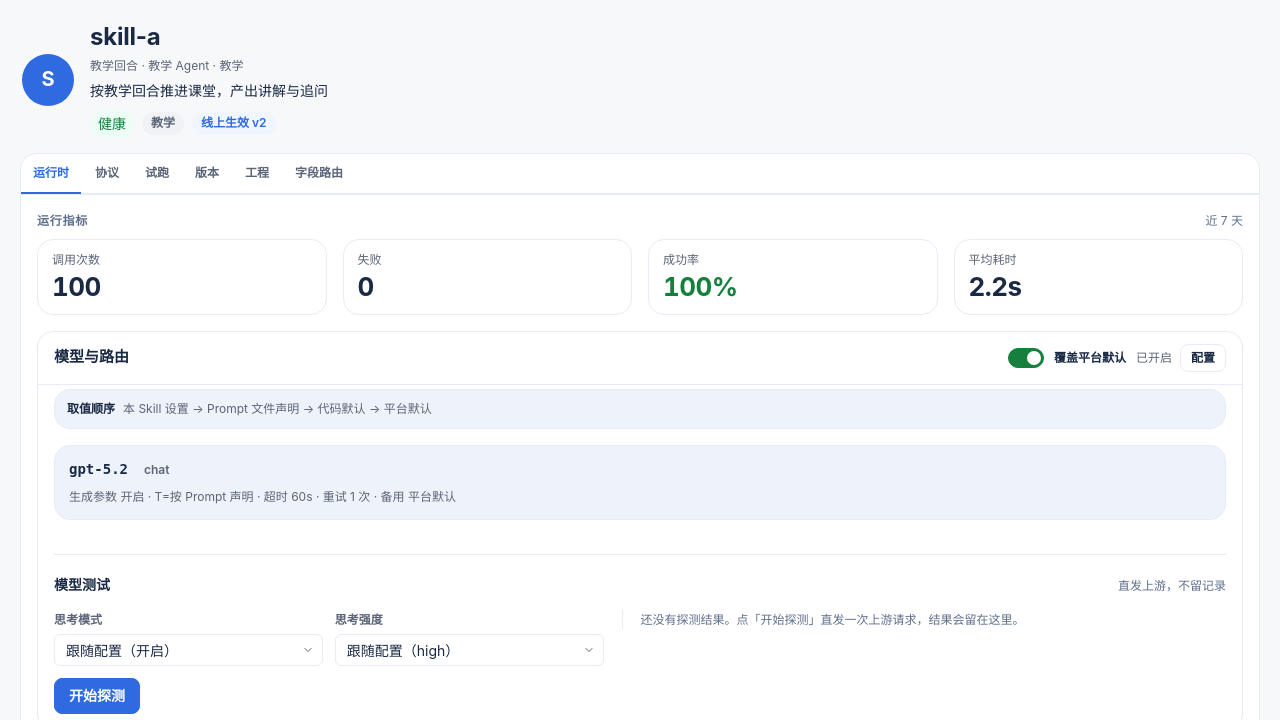
Scenario: SkillDetail 详情页（renderSkillDetail 落点） › 版本页签：版本表格（版本/名称/状态）+ 下方版本管理区块；日期/作者无源不渲染
What coordinates should you click on to do the following:
click the tab with class "mk-subtab" showing "版本"
I would click on:
 (207, 174)
Its box is [183,154,231,194].
(page scrolled)
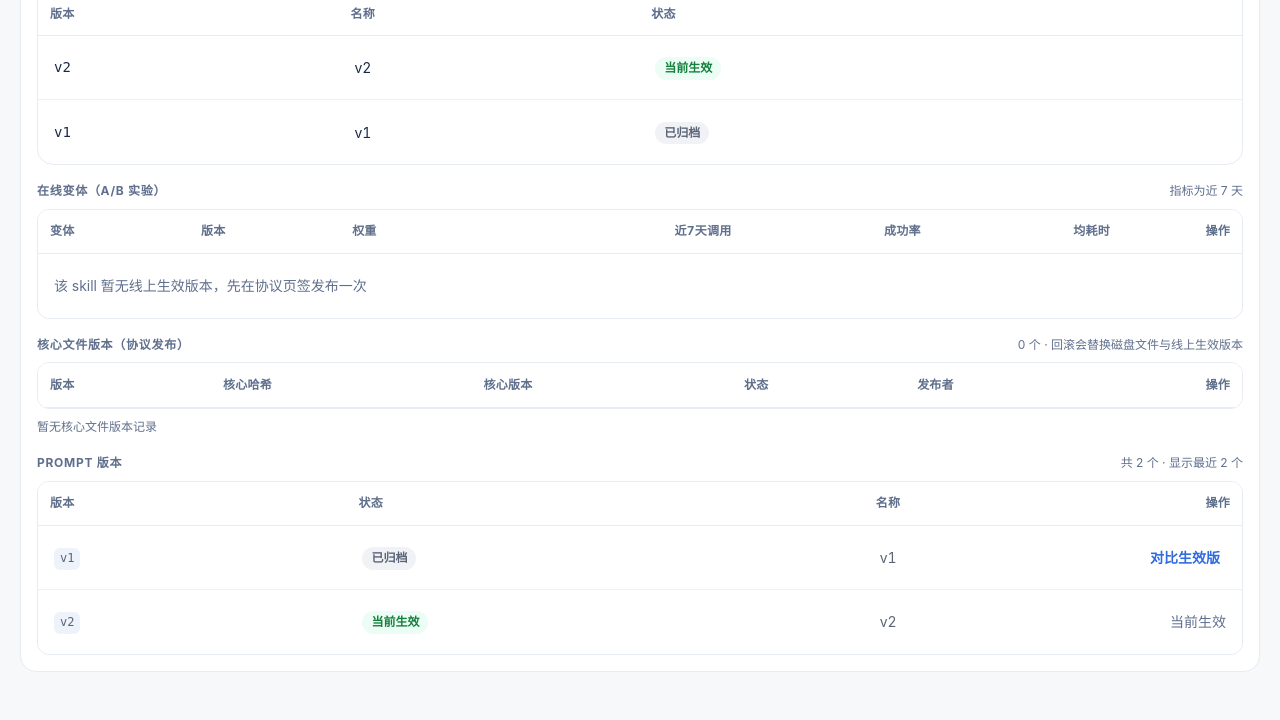
Check: the row "v2 v2 当前生效" is shown, box [38,36,1242,100]
Check: the row "v1 v1 已归档" is shown, box [38,100,1242,164]
Check: the element with class "sdp-versions" is shown
